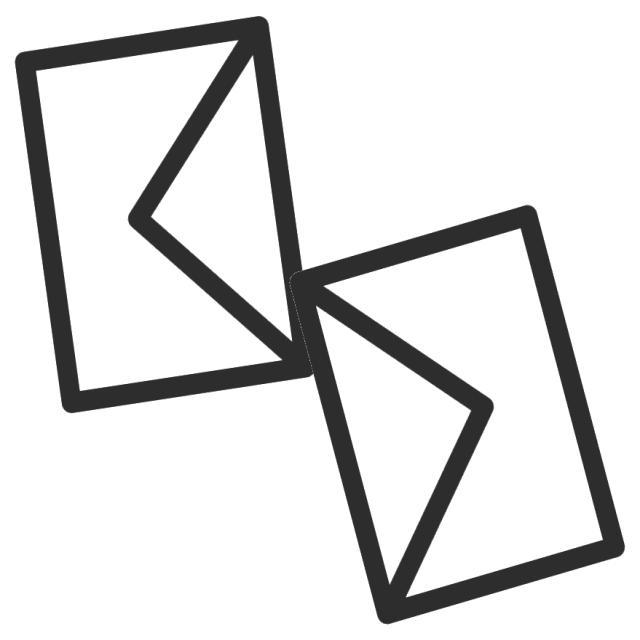letter: (282, 202, 627, 632), (11, 20, 328, 423)
